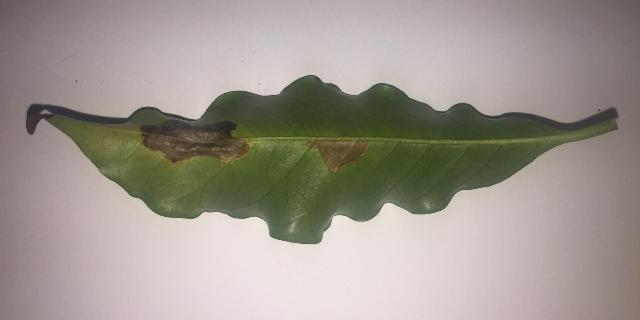cercospora: (140, 120, 248, 164), (306, 140, 369, 172)
